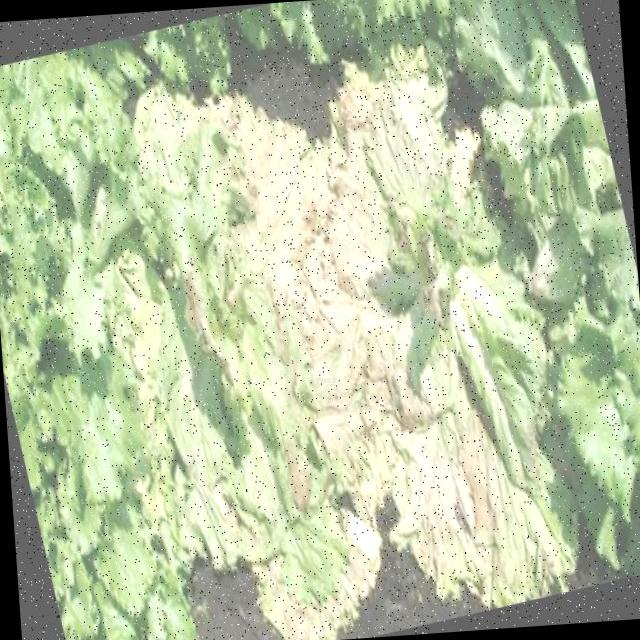Septoria_Blight: (158, 62, 534, 640)
